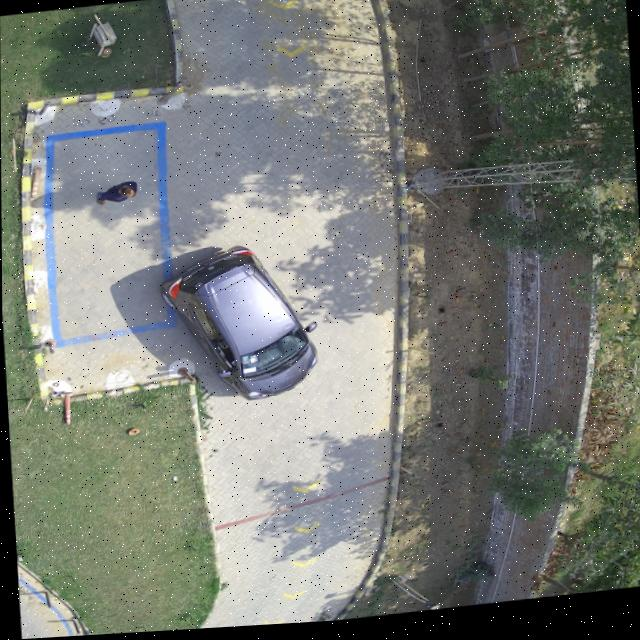car: (167, 281, 180, 302), (201, 299, 204, 303)
